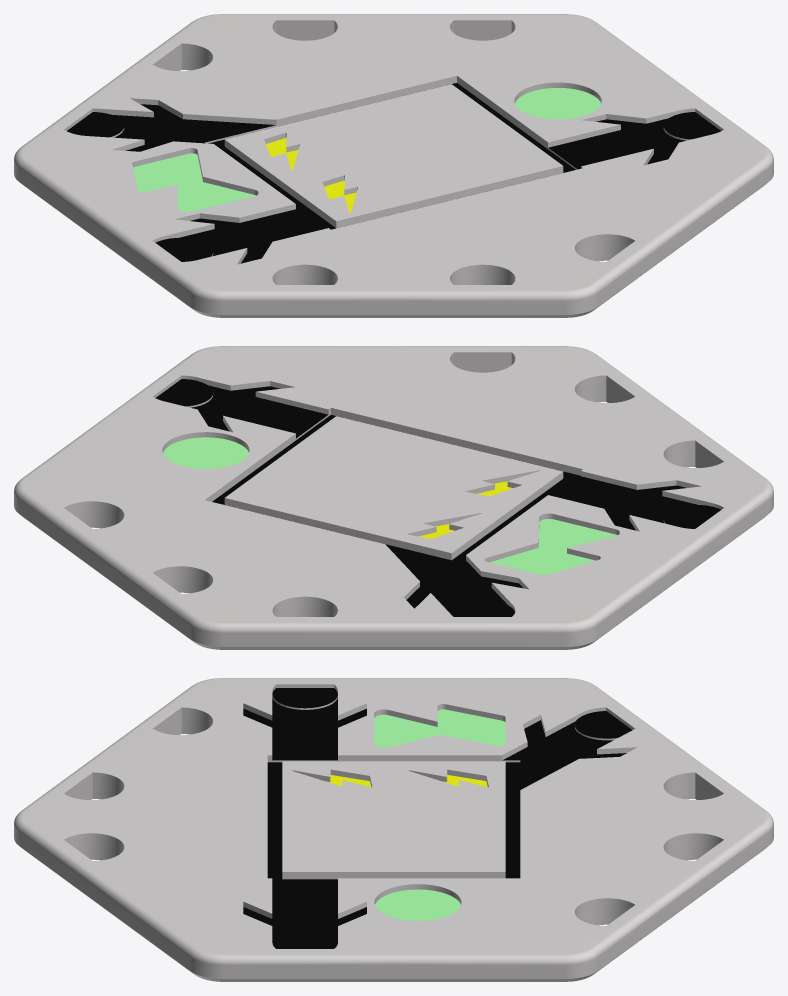
File: tile-sphere-factory.glb
3 renders of one model, top to bottom at view 1: azimuth 30°, elevation 25°; view 2: azimuth 150°, elevation 25°; view 3: azimuth 270°, elevation 25°, orthographic.
Parts seen in each view (by area): view 1: tile-sphere-factory; view 2: tile-sphere-factory; view 3: tile-sphere-factory.
Part boxes in pixels (x1,y1,x2,y2): tile-sphere-factory: (14, 14, 773, 317); tile-sphere-factory: (14, 346, 773, 649); tile-sphere-factory: (14, 678, 773, 981).
Bounding box in the file's own units: 68.85 × 3 × 78.26.
